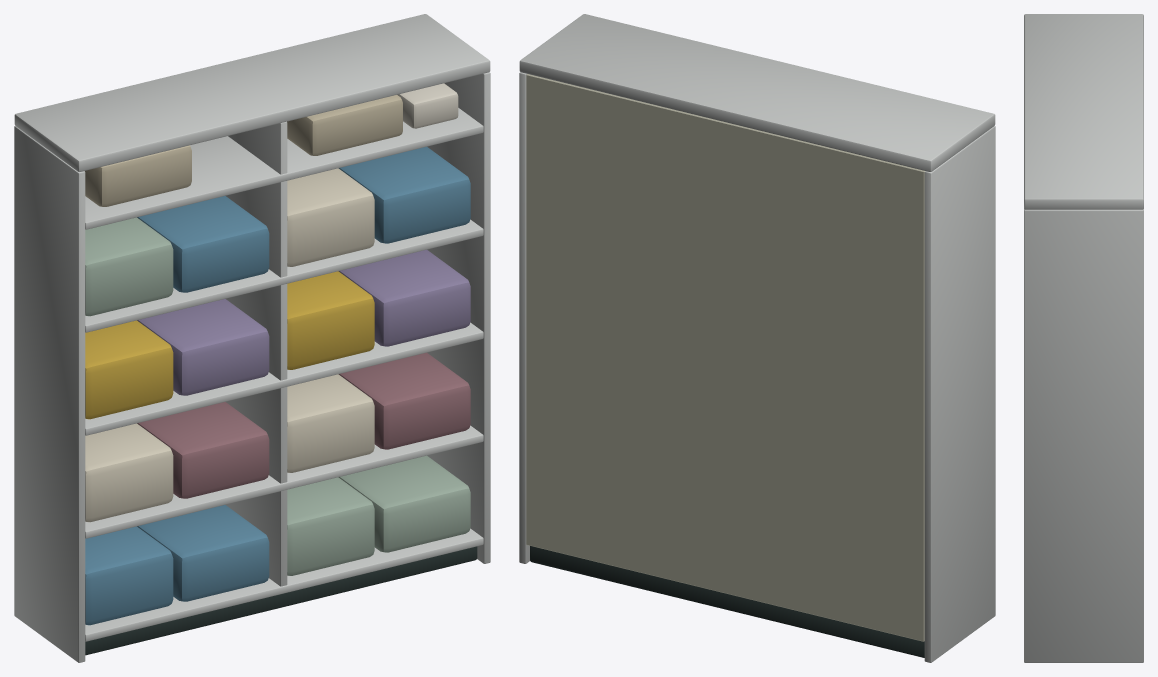
The model's file is pharmacy-shelves.glb.
The picture shows the model from 3 angles, left to right: view 1: azimuth 30°, elevation 25°; view 2: azimuth 150°, elevation 25°; view 3: azimuth 270°, elevation 25°; orthographic projection. The views are drawn at different scales.
Visible parts, largest first — view 1: pharmacy-shelves; view 2: pharmacy-shelves; view 3: pharmacy-shelves.
Boxes of the visible parts, left/top/right/bottom form: pharmacy-shelves: left=14, top=14, right=490, bottom=662; pharmacy-shelves: left=519, top=14, right=995, bottom=662; pharmacy-shelves: left=1024, top=14, right=1143, bottom=662.
Bounding box in the file's own units: 1.76 × 2.05 × 0.48.
